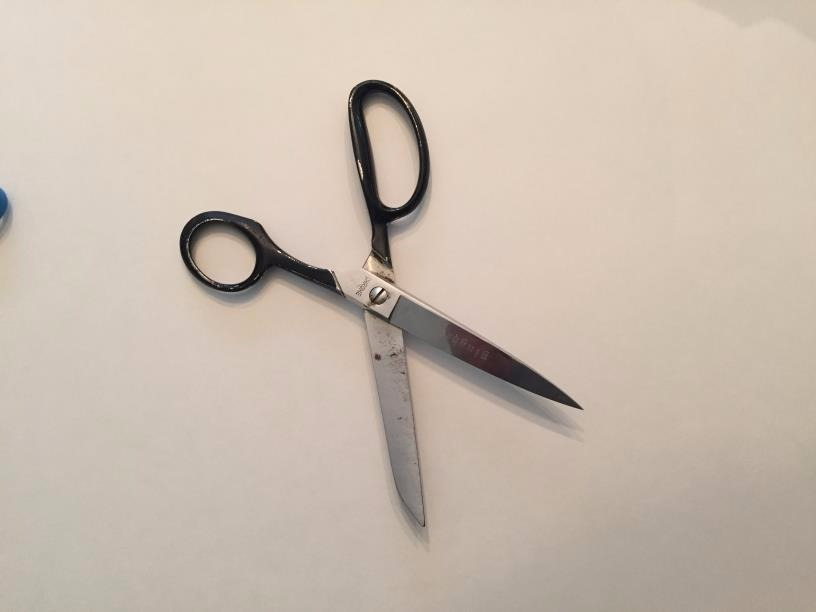scissor: (153, 63, 611, 548)
